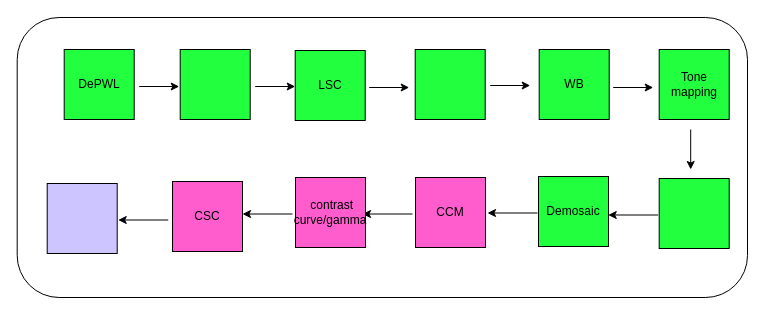
Some shapes in this 766 by 315 pixel diagram are drawn without their labels. Here are the shapes that lost their labels. From the top down, the centre of each, then its label:
pixel 214 84: DPC
pixel 449 84: BLC
pixel 81 218: Sharpen
pixel 693 213: RawNR
